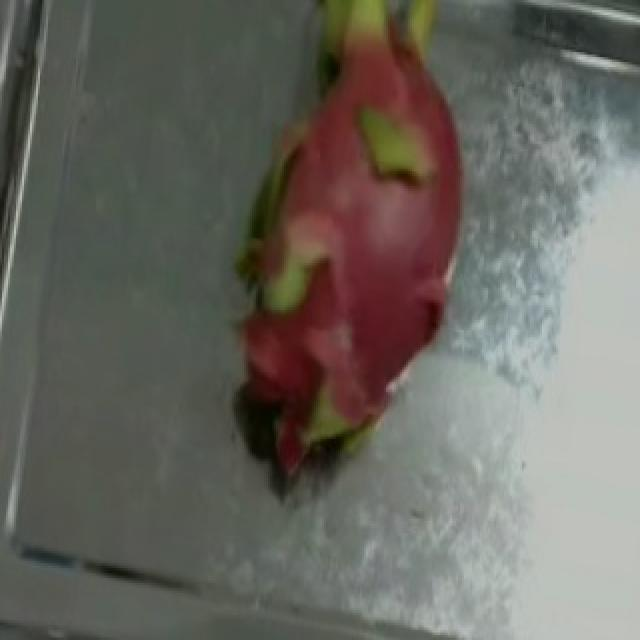fruit: (152, 2, 516, 464)
